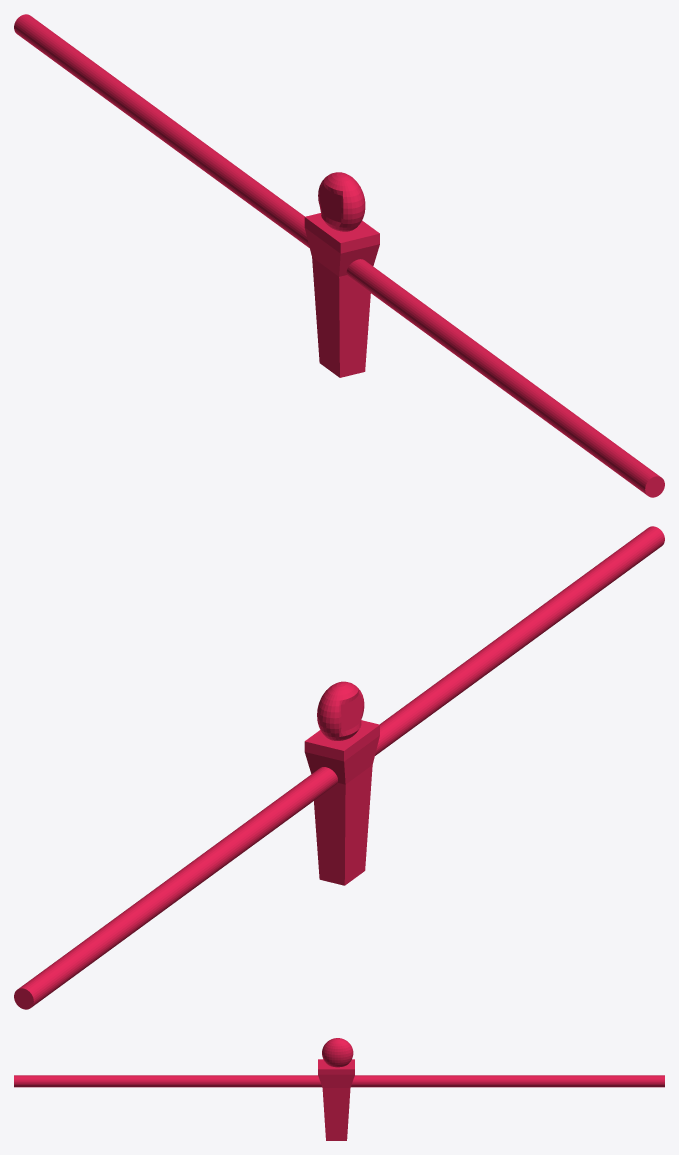
The model's file is Player_B1.glb.
3 views of the same model, one above another, from view 1: azimuth 30°, elevation 25°; view 2: azimuth 150°, elevation 25°; view 3: azimuth 270°, elevation 25° (orthographic). The views are drawn at different scales.
Parts seen in each view (by area): view 1: Player_B1; view 2: Player_B1; view 3: Player_B1.
Part boxes in pixels (x1=…): Player_B1: x1=14, y1=14, x2=664, y2=497; Player_B1: x1=14, y1=526, x2=664, y2=1009; Player_B1: x1=14, y1=1038, x2=664, y2=1140.
Size of the model in its own units: 1.57 by 7.28 by 43.39.
